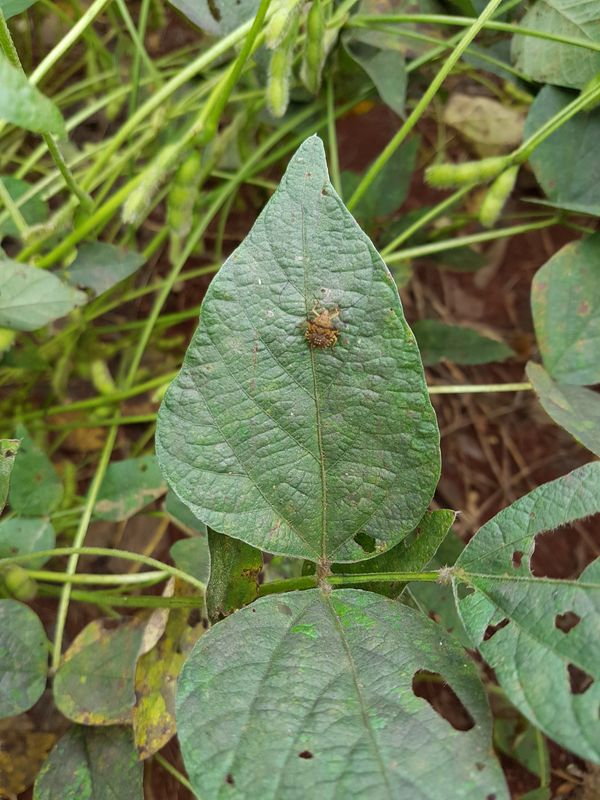Euschistus_heros_ninfa: (295, 297, 351, 356)
